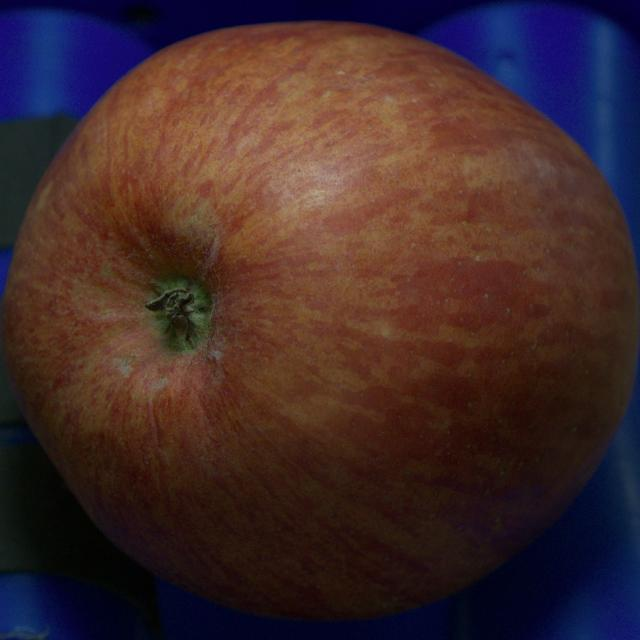apple: (2, 22, 639, 618)
